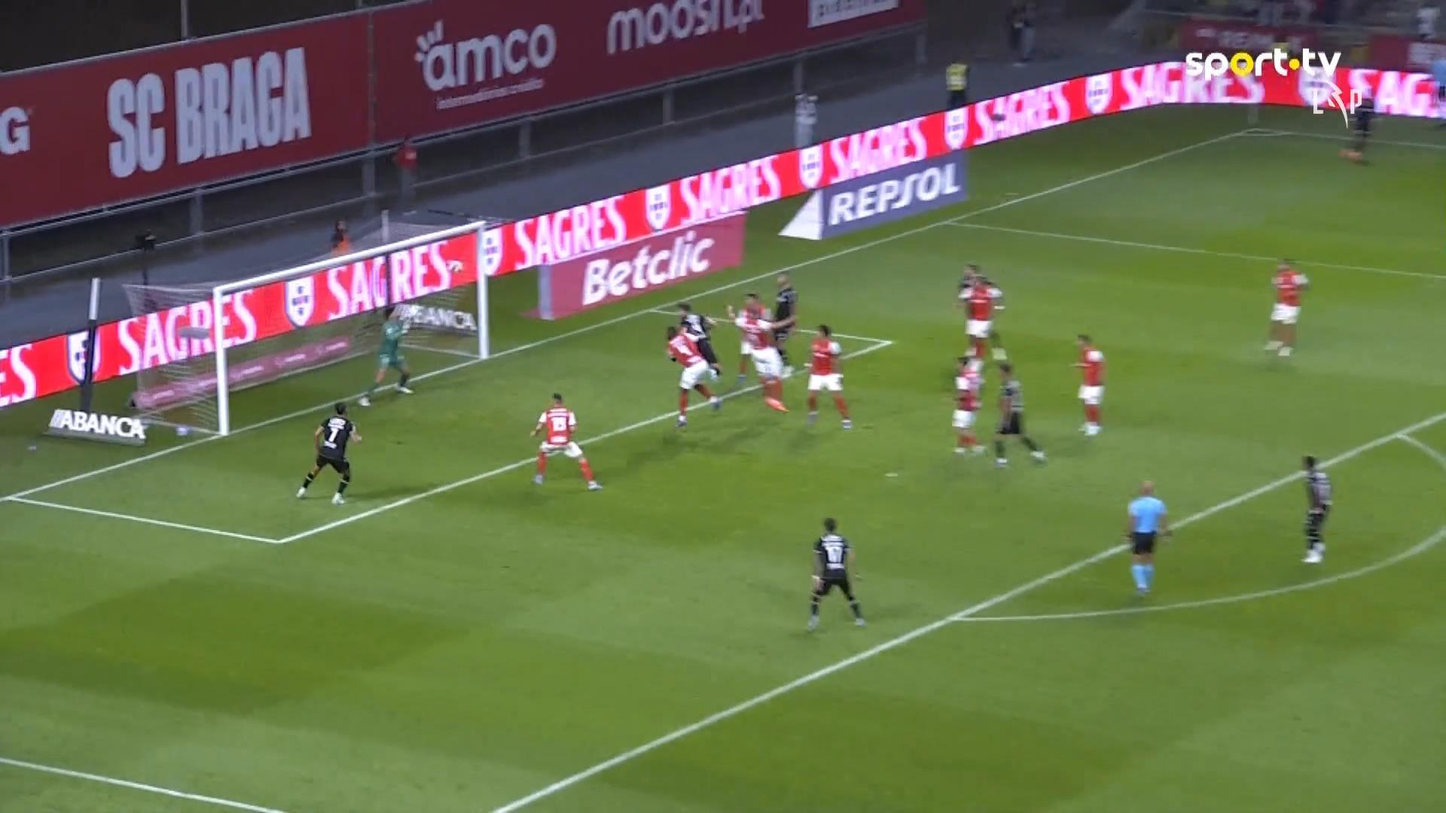goalkeeper: (357, 306, 414, 406)
player: (725, 293, 794, 413), (528, 391, 602, 491), (804, 516, 867, 632), (295, 400, 362, 504), (665, 322, 722, 429), (990, 361, 1047, 466), (804, 323, 853, 429), (1263, 257, 1309, 357), (960, 273, 1005, 361), (949, 353, 987, 455), (1069, 333, 1106, 436), (1299, 453, 1333, 564), (675, 300, 722, 379), (1343, 89, 1380, 167), (771, 273, 798, 375)
referee: (1123, 479, 1173, 596)
